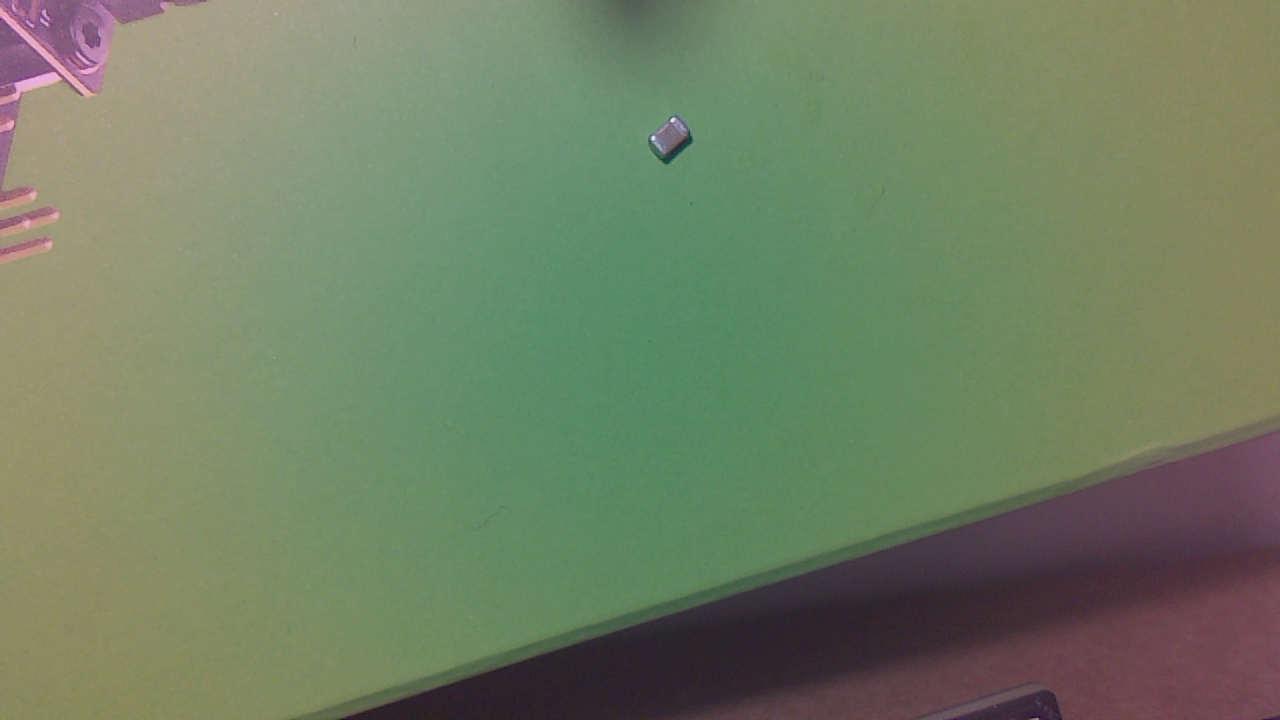Condensator: (652, 120, 696, 168)
